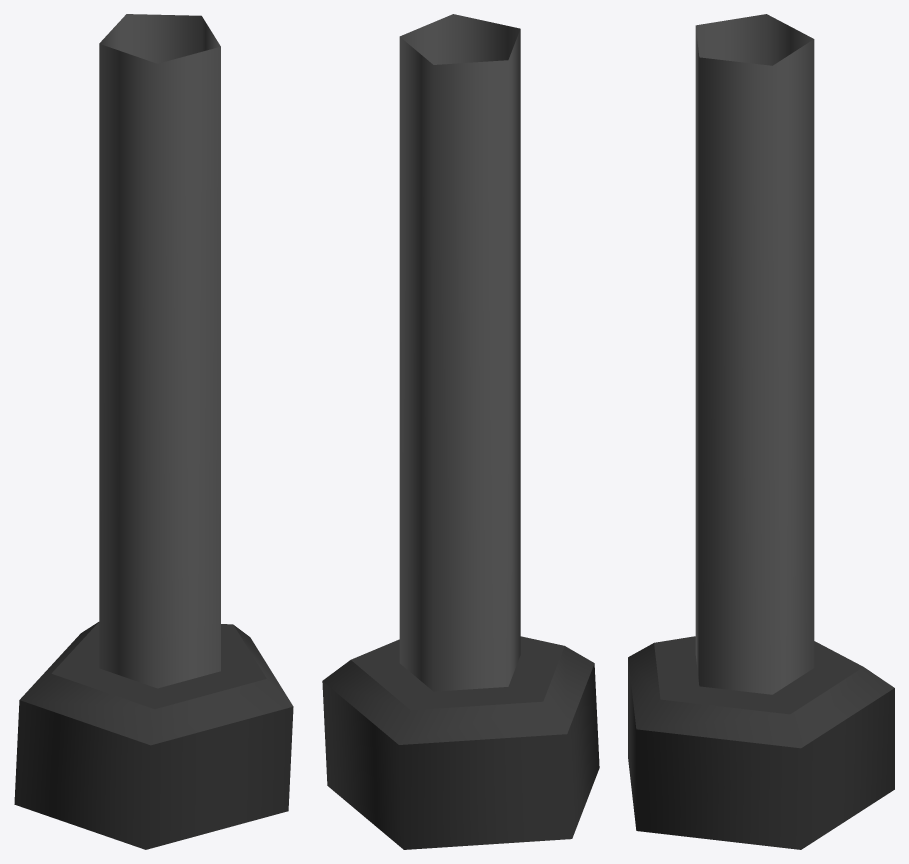
The model's file is Antene_2_A_1h.fbx.
3 views of the same model, side by side, from view 1: azimuth 30°, elevation 25°; view 2: azimuth 150°, elevation 25°; view 3: azimuth 270°, elevation 25° (orthographic).
Parts seen in each view (by area): view 1: Antene_2_A_1h; view 2: Antene_2_A_1h; view 3: Antene_2_A_1h.
Boxes of the visible parts, left/top/right/bottom form: Antene_2_A_1h: left=14, top=14, right=293, bottom=849; Antene_2_A_1h: left=322, top=14, right=599, bottom=849; Antene_2_A_1h: left=628, top=14, right=894, bottom=849.
Bounding box in the file's own units: 18.44 × 54.54 × 17.44.
